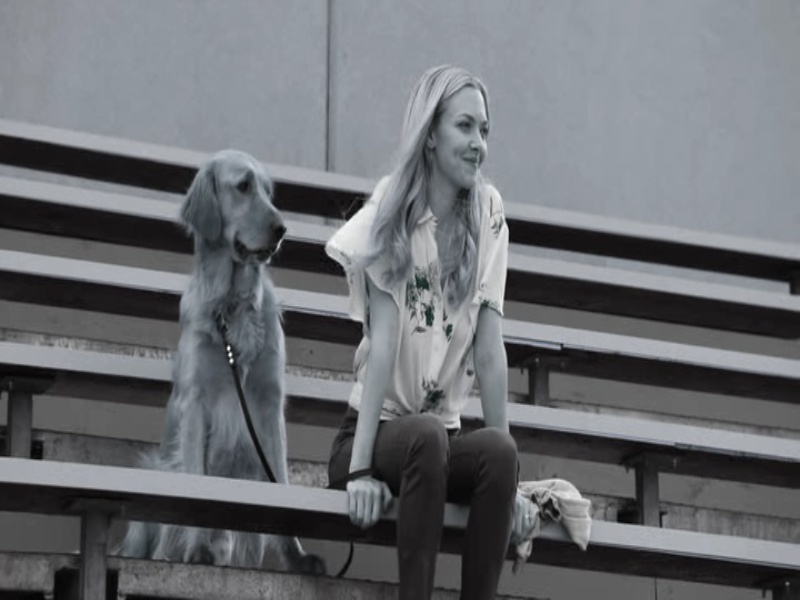TsisyArotava: (427, 72, 501, 205)
